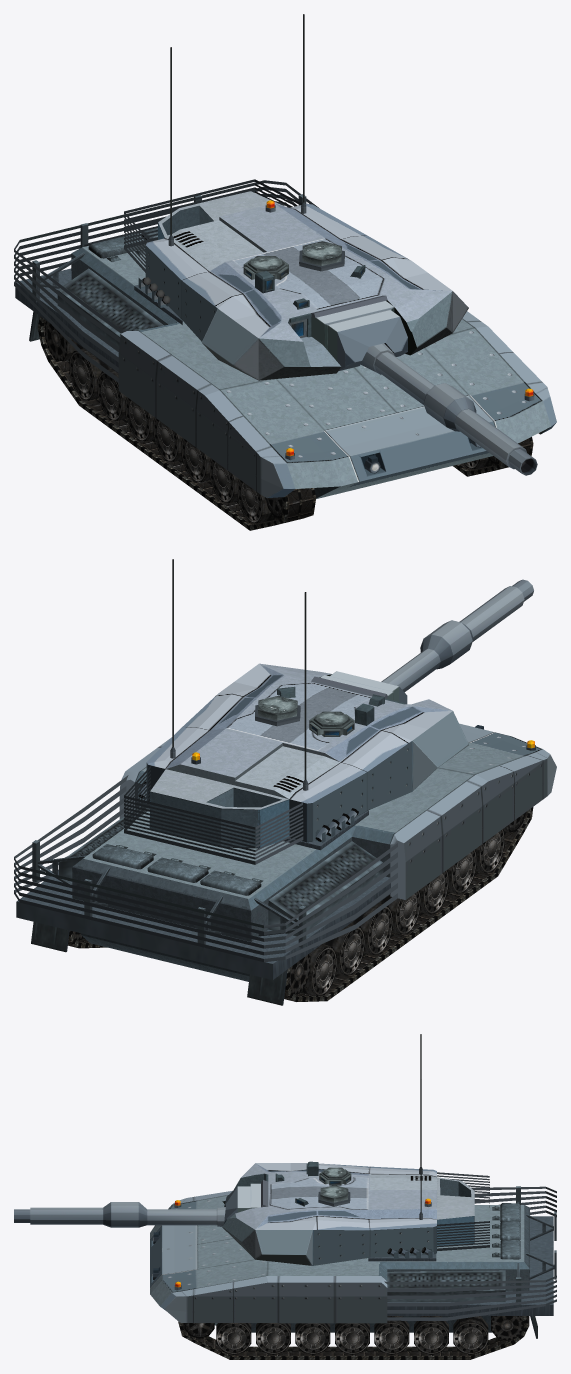
The model's file is revolution1.fbx.
3 views of the same model, one above another, from view 1: azimuth 30°, elevation 25°; view 2: azimuth 150°, elevation 25°; view 3: azimuth 270°, elevation 25° (orthographic). The views are drawn at different scales.
Parts seen in each view (by area): view 1: polySurface492, polySurface490, polySurface491, polySurface483, polySurface473, polySurface472, polySurface467, polySurface469, polySurface468, polySurface470, polySurface471, polySurface474; view 2: polySurface492, polySurface490, polySurface491, polySurface483, polySurface473, polySurface472, polySurface471, polySurface470, polySurface467, polySurface468, polySurface469, polySurface474; view 3: polySurface492, polySurface490, polySurface491, polySurface417, polySurface464, polySurface463, polySurface462, polySurface460, polySurface17, polySurface459, polySurface461, polySurface458.
Part boxes in pixels (x1=…): polySurface492: x1=14, y1=180, x2=556, y2=498; polySurface490: x1=124, y1=14, x2=468, y2=380; polySurface491: x1=312, y1=301, x2=537, y2=475; polySurface483: x1=37, y1=316, x2=315, y2=530; polySurface473: x1=69, y1=348, x2=111, y2=400; polySurface472: x1=97, y1=369, x2=126, y2=420; polySurface467: x1=237, y1=479, x2=277, y2=523; polySurface469: x1=181, y1=438, x2=210, y2=482; polySurface468: x1=209, y1=458, x2=238, y2=502; polySurface470: x1=153, y1=417, x2=182, y2=461; polySurface471: x1=125, y1=397, x2=154, y2=441; polySurface474: x1=45, y1=321, x2=83, y2=361; polySurface492: x1=14, y1=723, x2=556, y2=1005; polySurface490: x1=124, y1=559, x2=468, y2=864; polySurface491: x1=320, y1=579, x2=533, y2=704; polySurface483: x1=284, y1=807, x2=533, y2=1001; polySurface473: x1=302, y1=944, x2=336, y2=995; polySurface472: x1=322, y1=923, x2=364, y2=975; polySurface471: x1=350, y1=903, x2=392, y2=954; polySurface470: x1=378, y1=891, x2=420, y2=934; polySurface467: x1=475, y1=829, x2=504, y2=872; polySurface468: x1=447, y1=849, x2=476, y2=893; polySurface469: x1=419, y1=870, x2=448, y2=913; polySurface474: x1=289, y1=954, x2=310, y2=993; polySurface492: x1=150, y1=1186, x2=556, y2=1338; polySurface490: x1=222, y1=1034, x2=489, y2=1265; polySurface491: x1=14, y1=1183, x2=260, y2=1227; polySurface417: x1=178, y1=1316, x2=529, y2=1359; polySurface464: x1=453, y1=1316, x2=488, y2=1354; polySurface463: x1=414, y1=1316, x2=448, y2=1354; polySurface462: x1=374, y1=1316, x2=409, y2=1354; polySurface460: x1=295, y1=1323, x2=330, y2=1354; polySurface17: x1=216, y1=1323, x2=251, y2=1354; polySurface459: x1=256, y1=1323, x2=290, y2=1354; polySurface461: x1=335, y1=1323, x2=369, y2=1354; polySurface458: x1=491, y1=1316, x2=522, y2=1340.
Size of the model in its own units: 59.09 by 72.99 by 138.
